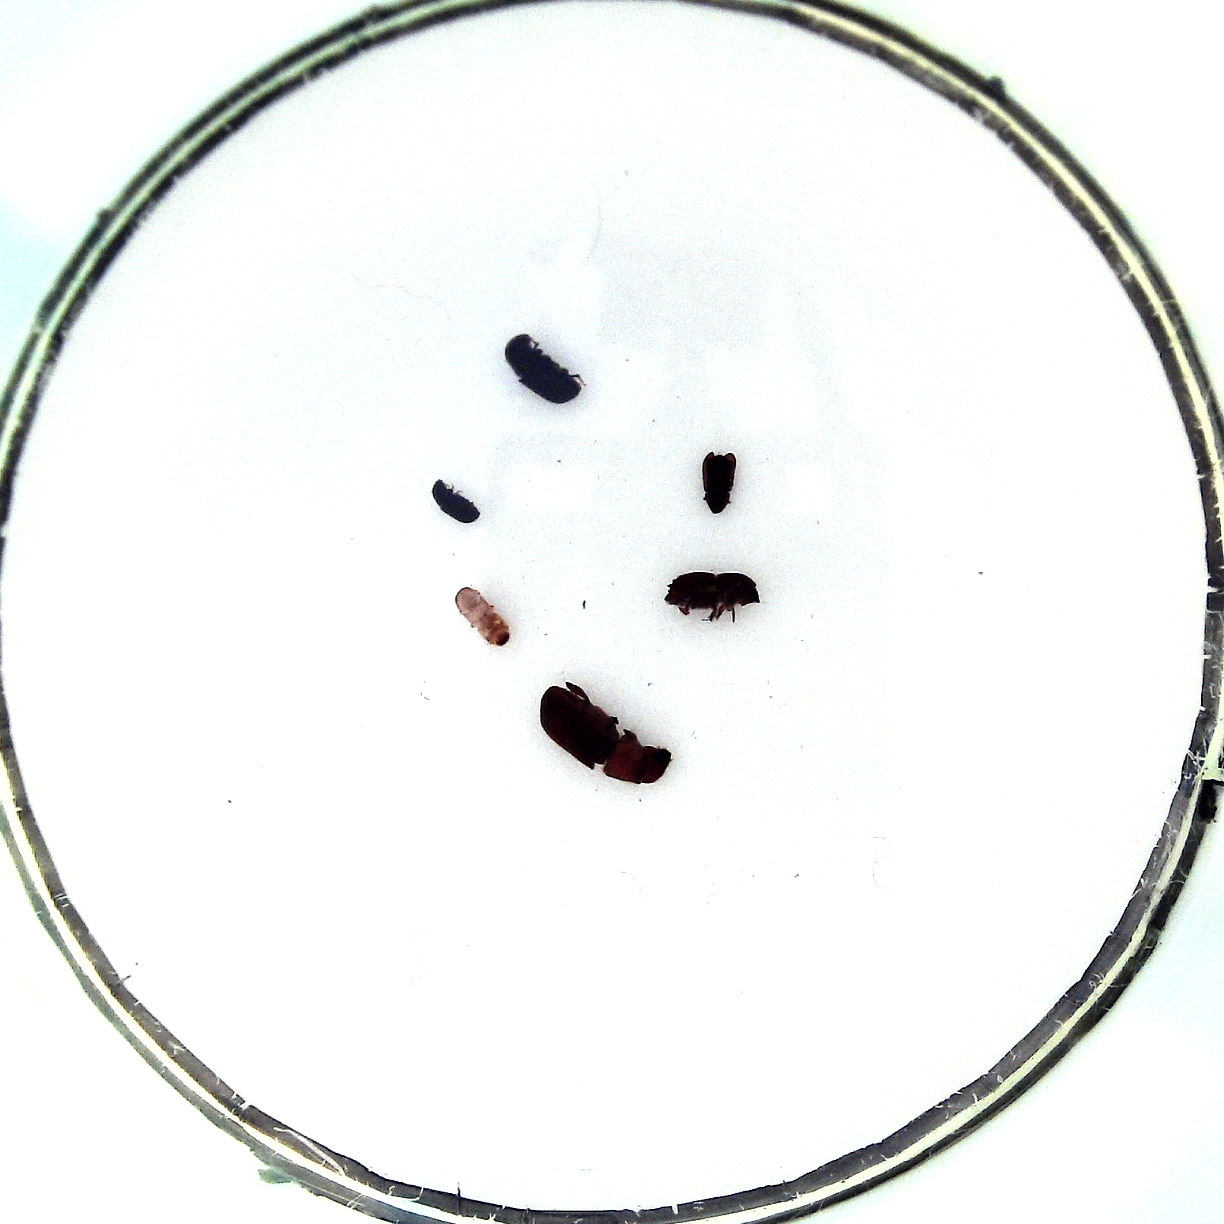Leconte: (539, 687, 673, 785)
acuminatus: (432, 477, 480, 522)
armandi: (506, 334, 582, 404)
coleoptera: (454, 587, 510, 646), (702, 449, 738, 514)
linnaeus: (664, 571, 761, 613)
